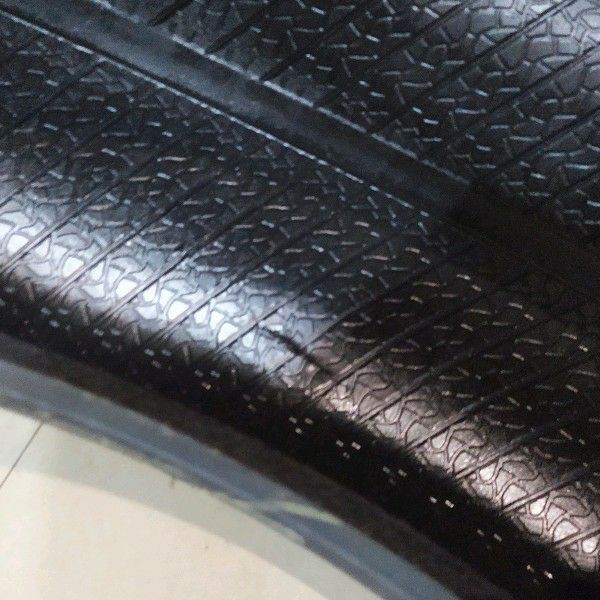CBU: (246, 318, 355, 394)
